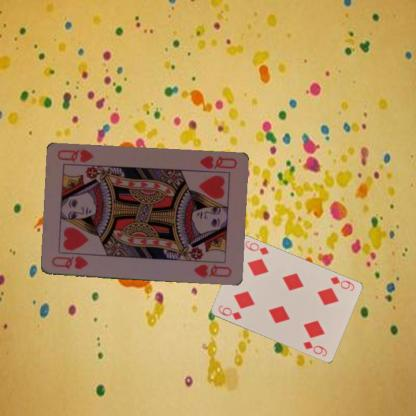6d: (216, 303, 243, 321), (328, 274, 355, 292)
Qh: (49, 254, 89, 271), (197, 154, 238, 170)
